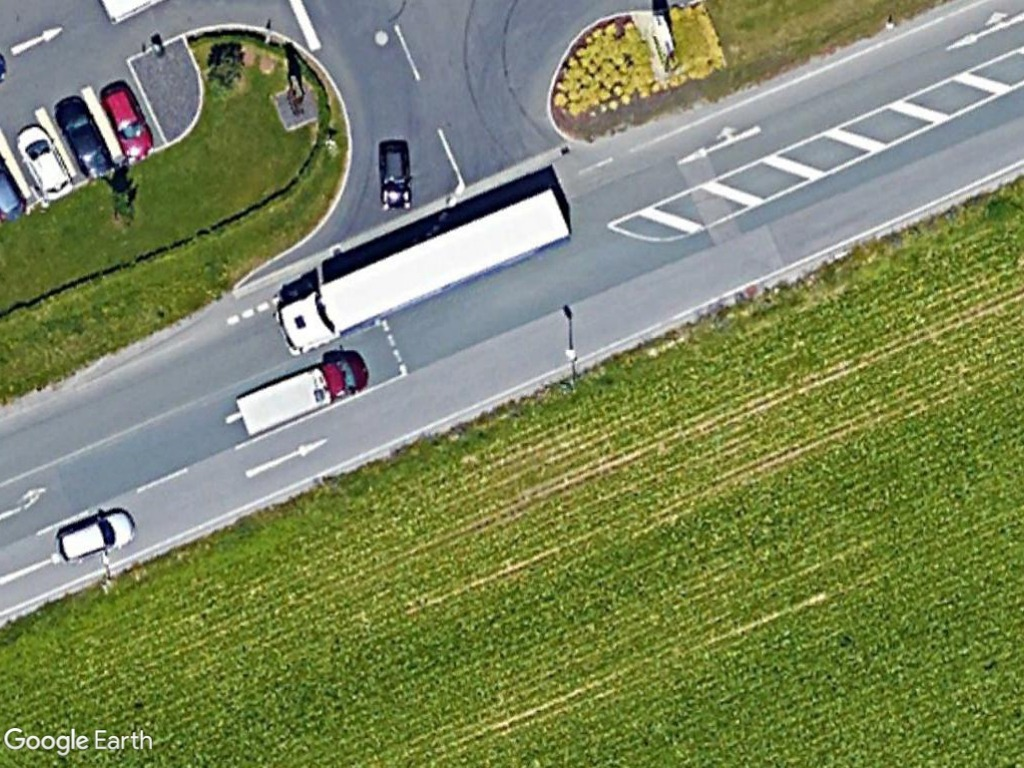car: (50, 499, 138, 569), (48, 93, 116, 181), (8, 121, 78, 205), (97, 78, 160, 164), (371, 132, 417, 214)
longvehicle: (271, 182, 574, 359)
truck: (232, 346, 373, 443)
